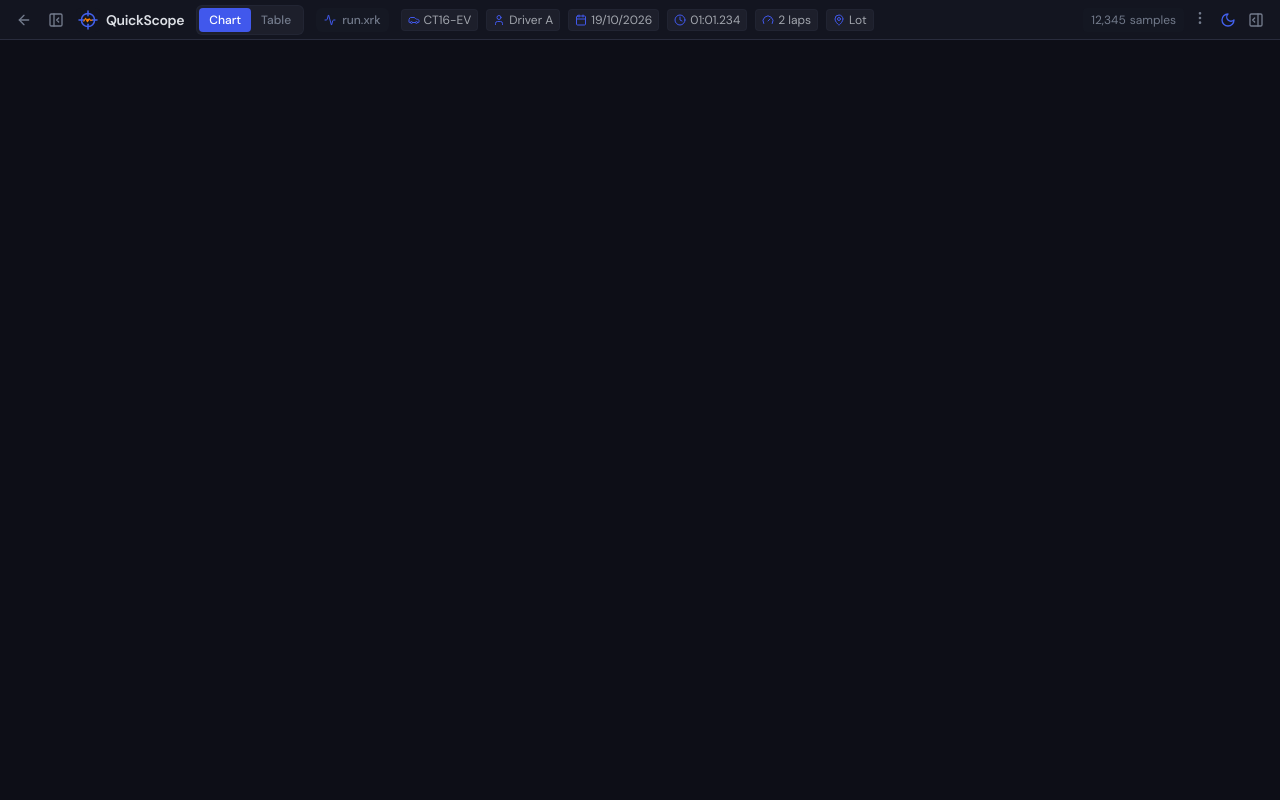
Test: SessionHeader › closes the menu on an outside click
This screenshot has width=1280, height=800.
Click the button titled "Menu": [1200, 18] box [1188,6,1212,30]
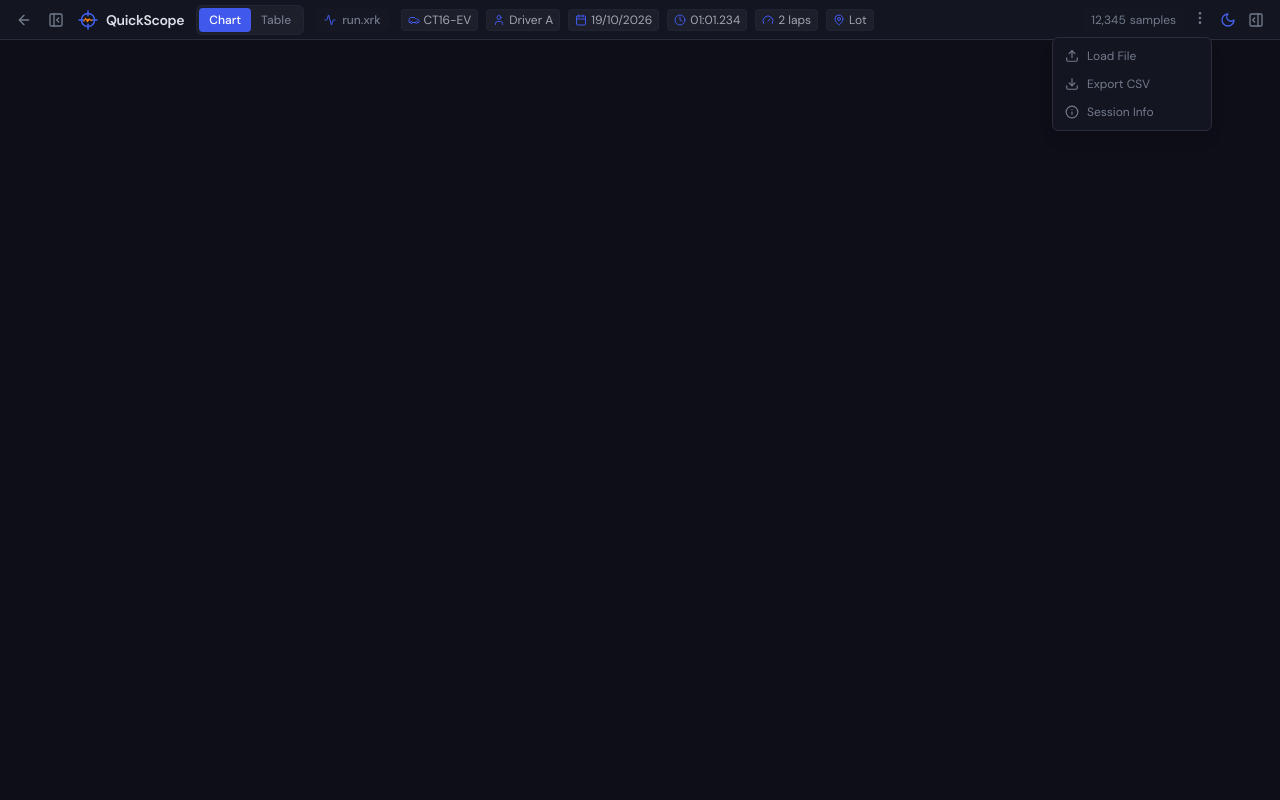
expect the button "Load File" is shown: met, box [1053,42,1211,70]
Press the mouse on the element that starts with "QuickScope": [640, 400] box [0,0,1279,799]
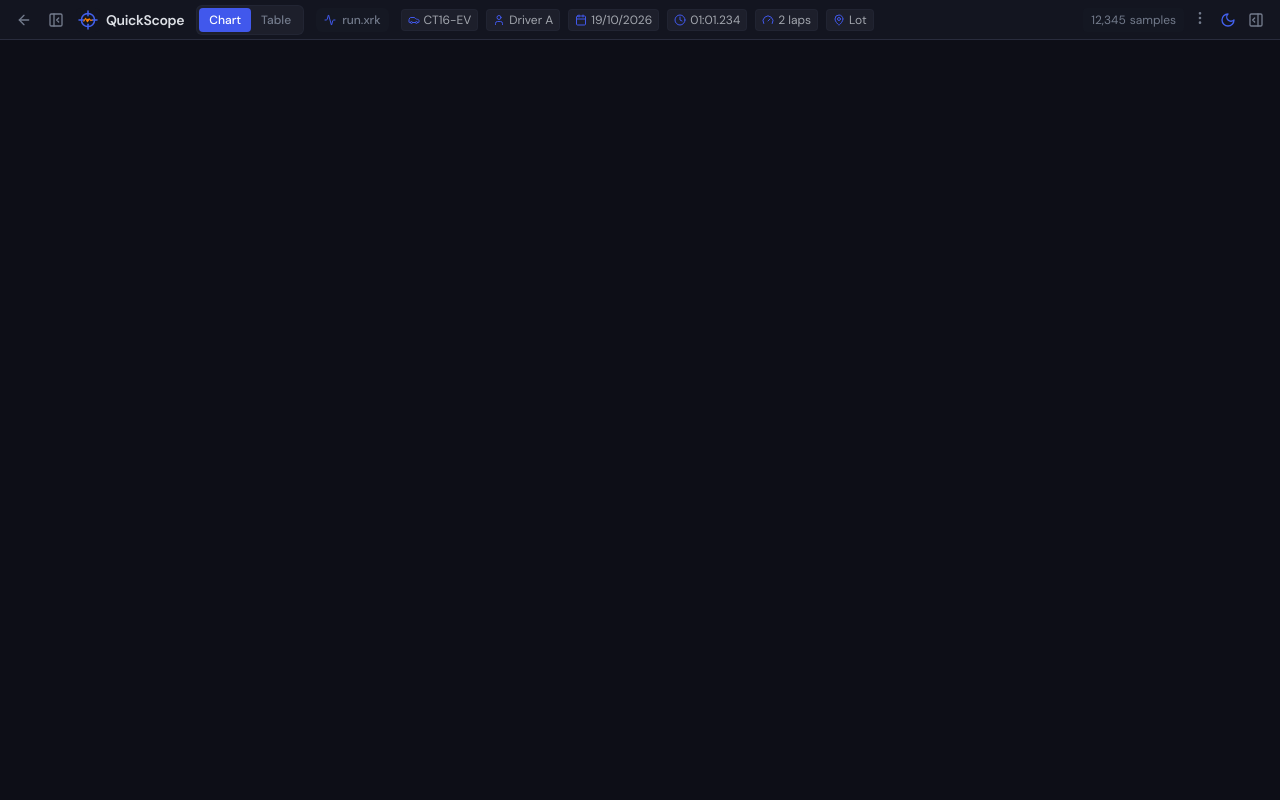
expect the button "Load File" is gone: met
